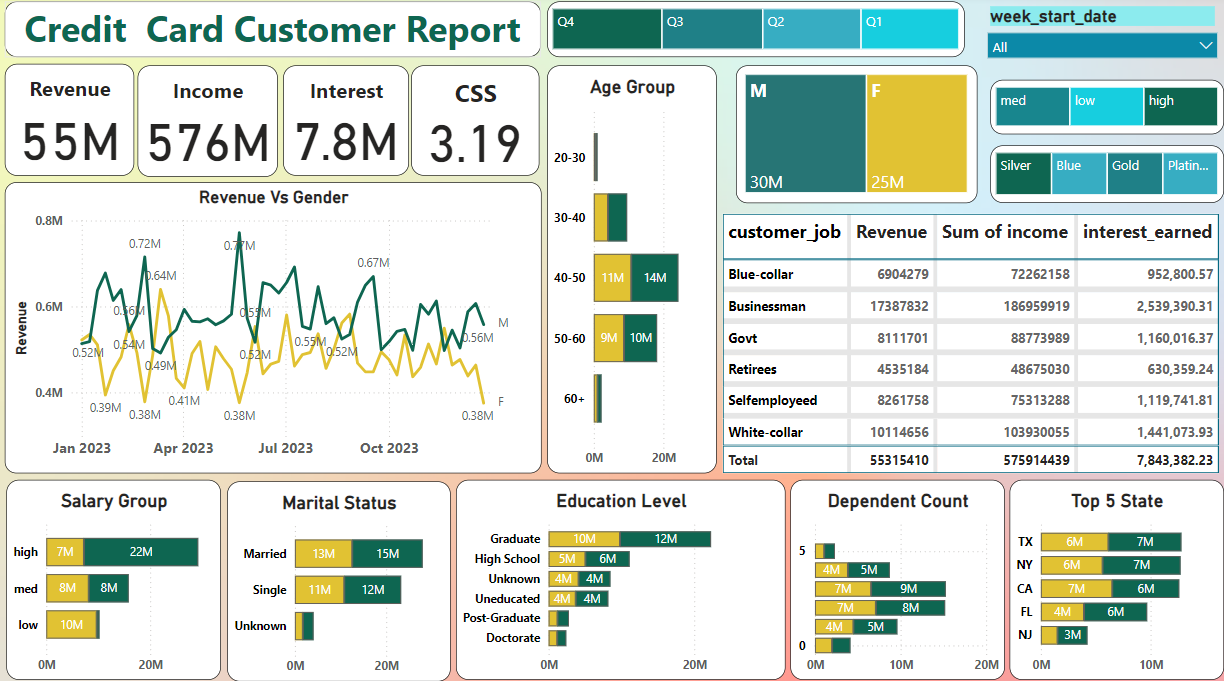

This screenshot's page, from the dashboard's own definition file:
{"tool":"powerbi","page":{"name":"Page 3","canvas":[1280,720],"ordinal":2},"visuals":[{"type":"textbox","box":[5,6.7,559.2,58.4],"z":0},{"type":"barChart","title":"Salary Group","fields":{"Category":["public cust_detail.IncomeGroup"],"Y":["Sum(public cc_detail.Revenue)"],"Series":["public cust_detail.gender"]},"box":[6.7,505.8,223.7,208.7],"z":1000},{"type":"treemap","title":"Revenue by exp_type","fields":{"Group":["public cc_detail.qtr"],"Values":["Avg(public cust_detail.client_num)"]},"box":[570.9,6.7,435.7,58.4],"z":2000},{"type":"tableEx","fields":{"Values":["public cust_detail.customer_job","Sum(public cc_detail.Revenue)","Sum(public cust_detail.income)","Sum(public cc_detail.interest_earned)"]},"box":[748,217,532.5,295.5],"z":3000},{"type":"card","title":"Revenue","fields":{"Values":["Sum(public cc_detail.Revenue)"]},"box":[5,71.8,135,117],"z":4000},{"type":"card","title":"Income","fields":{"Values":["Sum(public cust_detail.income)"]},"box":[144,73.4,146,116],"z":5000},{"type":"card","title":" Interest","fields":{"Values":["Sum(public cc_detail.interest_earned)"]},"box":[295,73.4,131,115.2],"z":6000},{"type":"card","title":"CSS","fields":{"Values":["Avg(public cust_detail.cust_satisfaction_score)"]},"box":[429,73.4,134,115.2],"z":7000},{"type":"slicer","fields":{"Values":["public cc_detail.week_start_date"]},"box":[1020,6.7,260.4,81.8],"z":8000},{"type":"treemap","title":"Revenue by exp_type","fields":{"Group":["public cc_detail.card_category"],"Values":["Avg(public cust_detail.client_num)"]},"box":[1033.3,156.9,243.7,60.1],"z":9000},{"type":"treemap","title":"Revenue by exp_type","fields":{"Group":["public cust_detail.IncomeGroup"],"Values":["Avg(public cust_detail.client_num)"]},"box":[1033.3,88.5,243.7,56.8],"z":10000},{"type":"lineChart","title":"Revenue Vs Gender","fields":{"Y":["Sum(public cc_detail.Revenue)"],"Series":["public cust_detail.gender"],"Category":["public cc_detail.week_start_date.Variation.Date Hierarchy.Year","public cc_detail.week_start_date.Variation.Date Hierarchy.Month","public cc_detail.week_start_date.Variation.Date Hierarchy.Day"]},"box":[5,195.3,560,303.8],"z":11000},{"type":"treemap","fields":{"Group":["public cust_detail.gender"],"Values":["Sum(public cc_detail.Revenue)"]},"box":[767.9,73.4,252.1,143.6],"z":12000},{"type":"barChart","title":"Age Group","fields":{"Y":["Sum(public cc_detail.Revenue)"],"Category":["public cust_detail.Agegroup"],"Series":["public cust_detail.gender"]},"box":[570.9,73.4,176.9,425.7],"z":13000},{"type":"barChart","title":"Education Level ","fields":{"Category":["public cust_detail.education_level"],"Y":["Sum(public cc_detail.Revenue)"],"Series":["public cust_detail.gender"]},"box":[475,505.8,344,208.7],"z":14000},{"type":"barChart","title":"Dependent Count ","fields":{"Y":["Sum(public cc_detail.Revenue)"],"Category":["public cust_detail.dependent_count"],"Series":["public cust_detail.gender"]},"box":[824,505.8,223.7,208.7],"z":15000},{"type":"barChart","title":"Top 5 State","fields":{"Category":["public cust_detail.state_cd"],"Y":["Sum(public cc_detail.Revenue)"],"Series":["public cust_detail.gender"]},"box":[1053.3,505.8,223.7,208.7],"z":16000},{"type":"barChart","title":"Marital Status ","fields":{"Y":["Sum(public cc_detail.Revenue)"],"Series":["public cust_detail.gender"],"Category":["public cust_detail.marital_status"]},"box":[237,507.5,233,208.7],"z":17000}]}

Visuals, with their boxes in screenshot pixels (x1, y1, x2, y2), scaled from the page's 1280x720 canvas onto the 1224x681 screenshot:
textbox: (left=5, top=6, right=540, bottom=62)
"Salary Group" barChart: (left=6, top=478, right=220, bottom=676)
"Revenue by exp_type" treemap: (left=546, top=6, right=963, bottom=62)
tableEx - public cust_detail.customer_job x Sum(public cc_detail.Revenue): (left=715, top=205, right=1223, bottom=485)
"Revenue" card: (left=5, top=68, right=134, bottom=179)
"Income" card: (left=138, top=69, right=277, bottom=179)
" Interest" card: (left=282, top=69, right=407, bottom=178)
"CSS" card: (left=410, top=69, right=538, bottom=178)
slicer - public cc_detail.week_start_date: (left=975, top=6, right=1223, bottom=84)
"Revenue by exp_type" treemap: (left=988, top=148, right=1221, bottom=205)
"Revenue by exp_type" treemap: (left=988, top=84, right=1221, bottom=137)
"Revenue Vs Gender" lineChart: (left=5, top=185, right=540, bottom=472)
treemap - public cust_detail.gender x Sum(public cc_detail.Revenue): (left=734, top=69, right=975, bottom=205)
"Age Group" barChart: (left=546, top=69, right=715, bottom=472)
"Education Level " barChart: (left=454, top=478, right=783, bottom=676)
"Dependent Count " barChart: (left=788, top=478, right=1002, bottom=676)
"Top 5 State" barChart: (left=1007, top=478, right=1221, bottom=676)
"Marital Status " barChart: (left=227, top=480, right=449, bottom=677)
